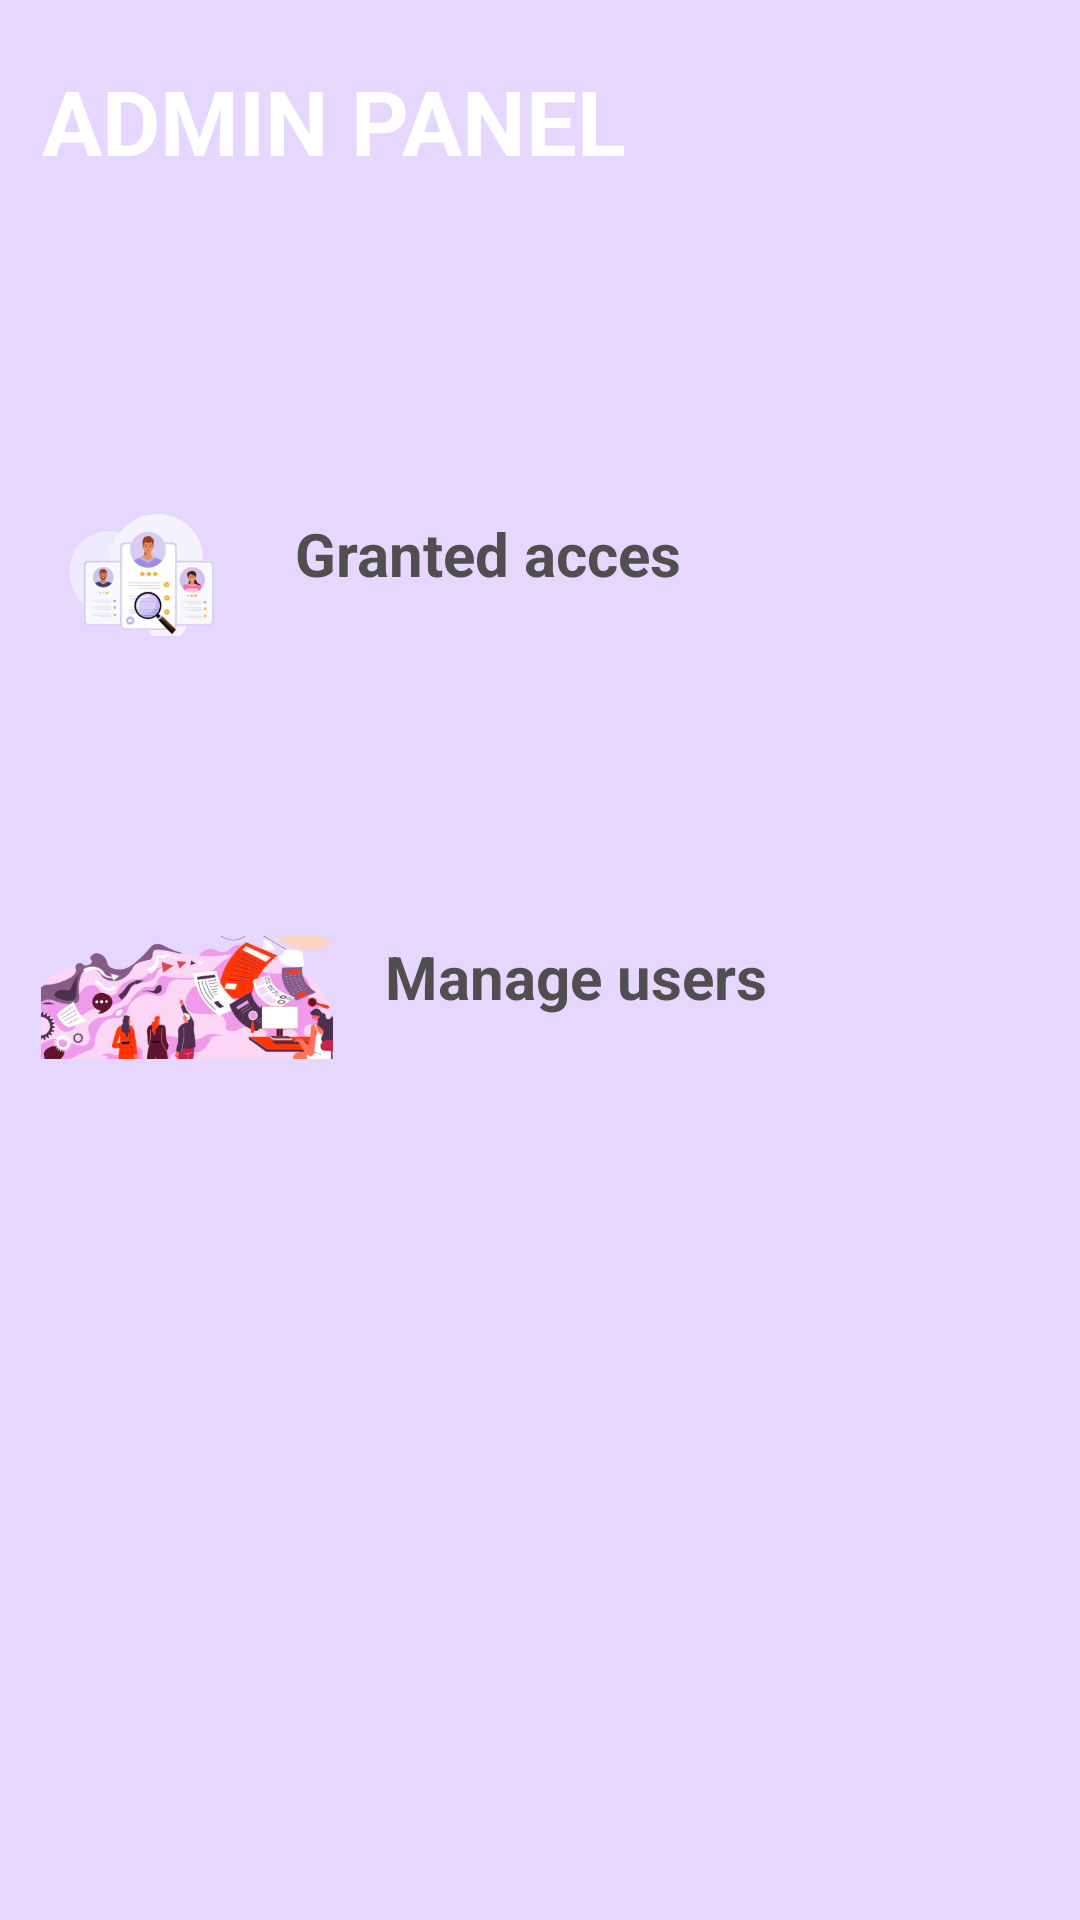

Locate icon controls on the screen. Image size 1080x1920, boxes as (x1, y1, x2, y2).
recruiter: (86, 514, 212, 636)
